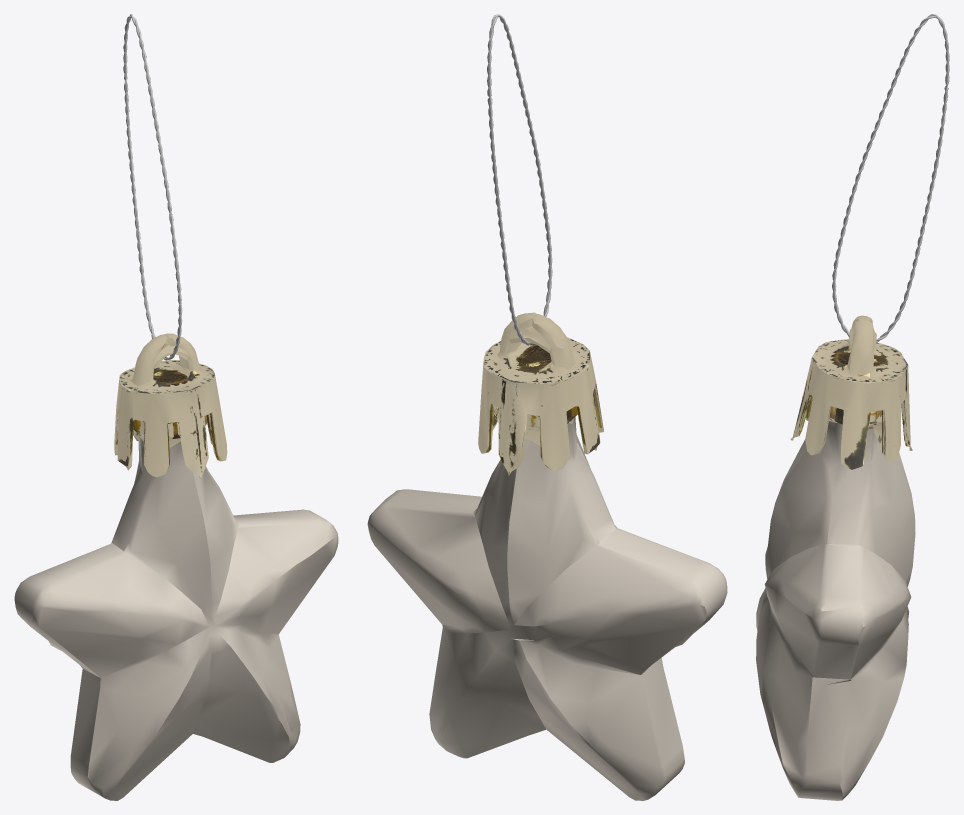
The model's file is Gold_Star.glb.
The picture shows the model from 3 angles, left to right: view 1: azimuth 30°, elevation 25°; view 2: azimuth 150°, elevation 25°; view 3: azimuth 270°, elevation 25°; orthographic projection. The views are drawn at different scales.
Visible parts, largest first — view 1: Mesh1.0, GN Instance; view 2: Mesh1.0, GN Instance; view 3: Mesh1.0, GN Instance.
Boxes of the visible parts, x1,y1,x2,y2 form: Mesh1.0: [14, 333, 338, 800]; GN Instance: [123, 14, 182, 360]; Mesh1.0: [367, 312, 727, 800]; GN Instance: [487, 14, 552, 345]; Mesh1.0: [756, 315, 915, 800]; GN Instance: [832, 14, 949, 342].
Size of the model in its own units: 0.0343 by 0.0776 by 0.0183.
Materials: 3 (1 with a texture image).
